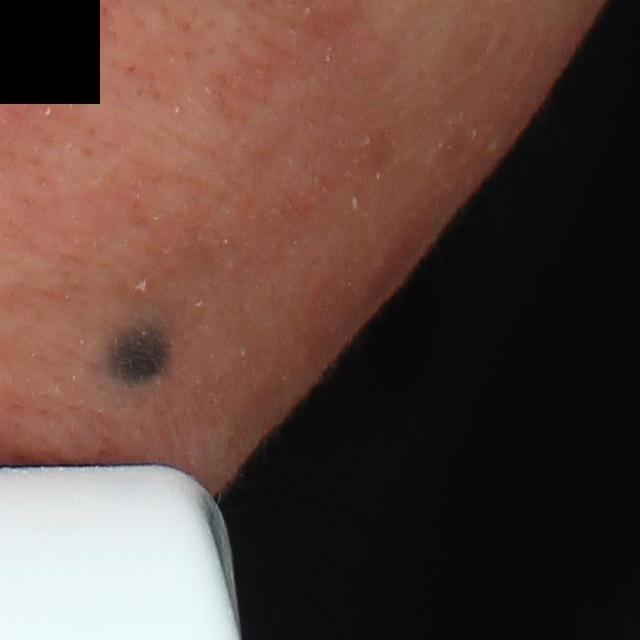nevus: (90, 316, 183, 391)
